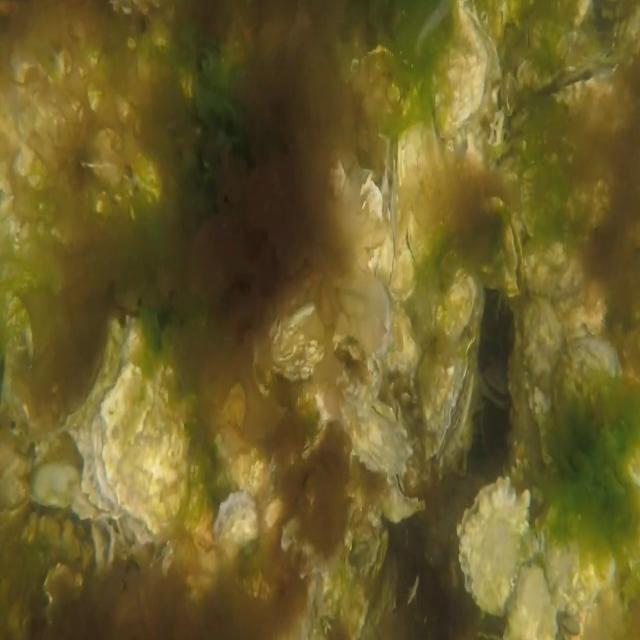Oyster-Closed: (534, 502, 615, 616), (420, 336, 477, 458), (338, 388, 414, 479), (382, 471, 427, 523)
Oyster-Indeterminate: (94, 359, 191, 539), (550, 333, 640, 488), (459, 475, 533, 616), (256, 285, 340, 381), (431, 0, 487, 142), (398, 120, 450, 270), (522, 294, 567, 463), (439, 266, 485, 348), (388, 178, 417, 304), (217, 484, 260, 546)
Oyster-Open: (502, 213, 527, 294)
